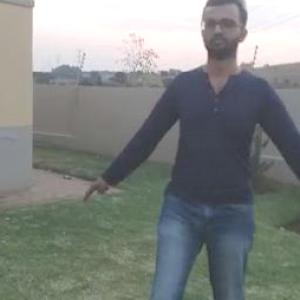land: (60, 0, 299, 299)
